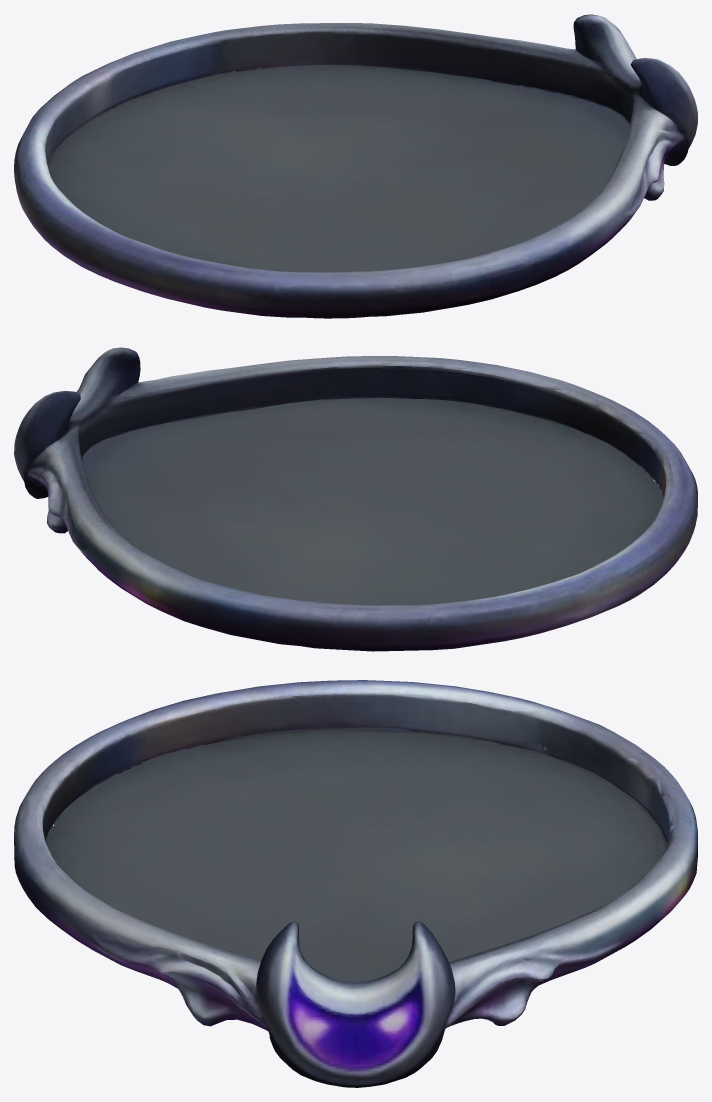
File: moon_seer_circlet.glb
3 renders of one model, top to bottom at view 1: azimuth 30°, elevation 25°; view 2: azimuth 150°, elevation 25°; view 3: azimuth 270°, elevation 25°, orthographic. The views are drawn at different scales.
Visible parts, largest first — view 1: world; view 2: world; view 3: world.
Part boxes in pixels (x1,y1,x2,y2): world: [14, 14, 697, 318]; world: [14, 347, 697, 651]; world: [14, 680, 697, 1087].
Bounding box in the file's own units: 0.2 × 0.04 × 0.1755.
1 material, 1 textured.
